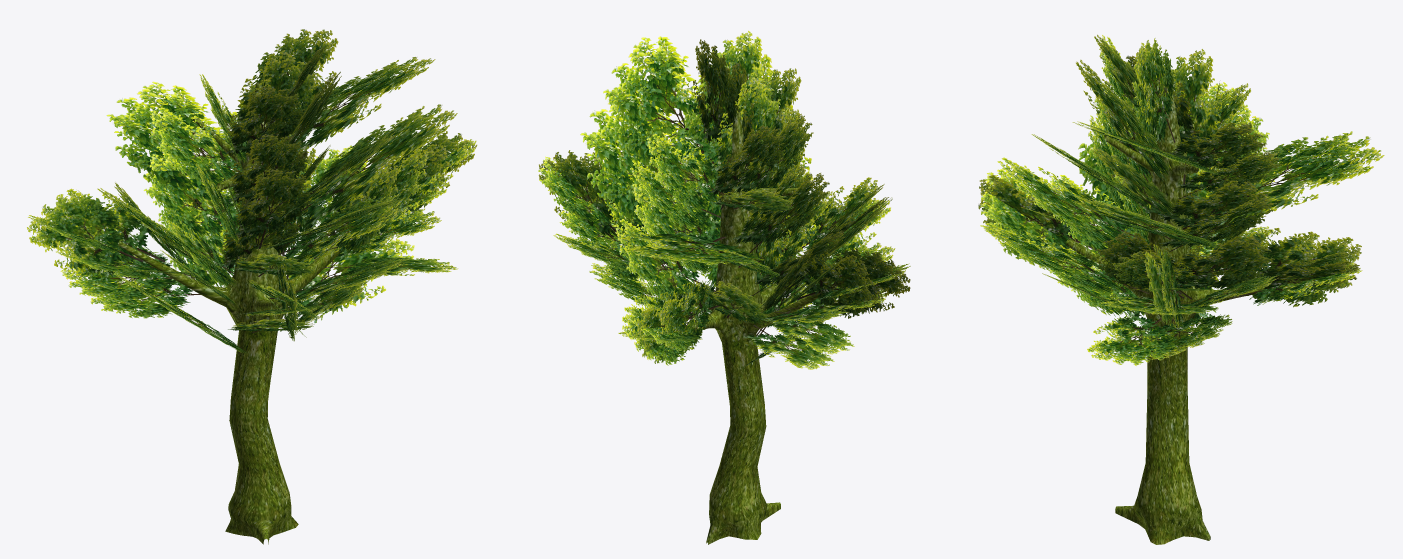
File: tree A.FBX
3 renders of one model, left to right at view 1: azimuth 30°, elevation 25°; view 2: azimuth 150°, elevation 25°; view 3: azimuth 270°, elevation 25°, orthographic. The views are drawn at different scales.
Visible parts, largest first — view 1: Box001; view 2: Box001; view 3: Box001.
Boxes of the visible parts, left/top/right/bottom form: Box001: left=27, top=29, right=477, bottom=544; Box001: left=538, top=30, right=910, bottom=544; Box001: left=978, top=34, right=1384, bottom=544.
Bounding box in the file's own units: 41.91 × 46.58 × 34.33.
